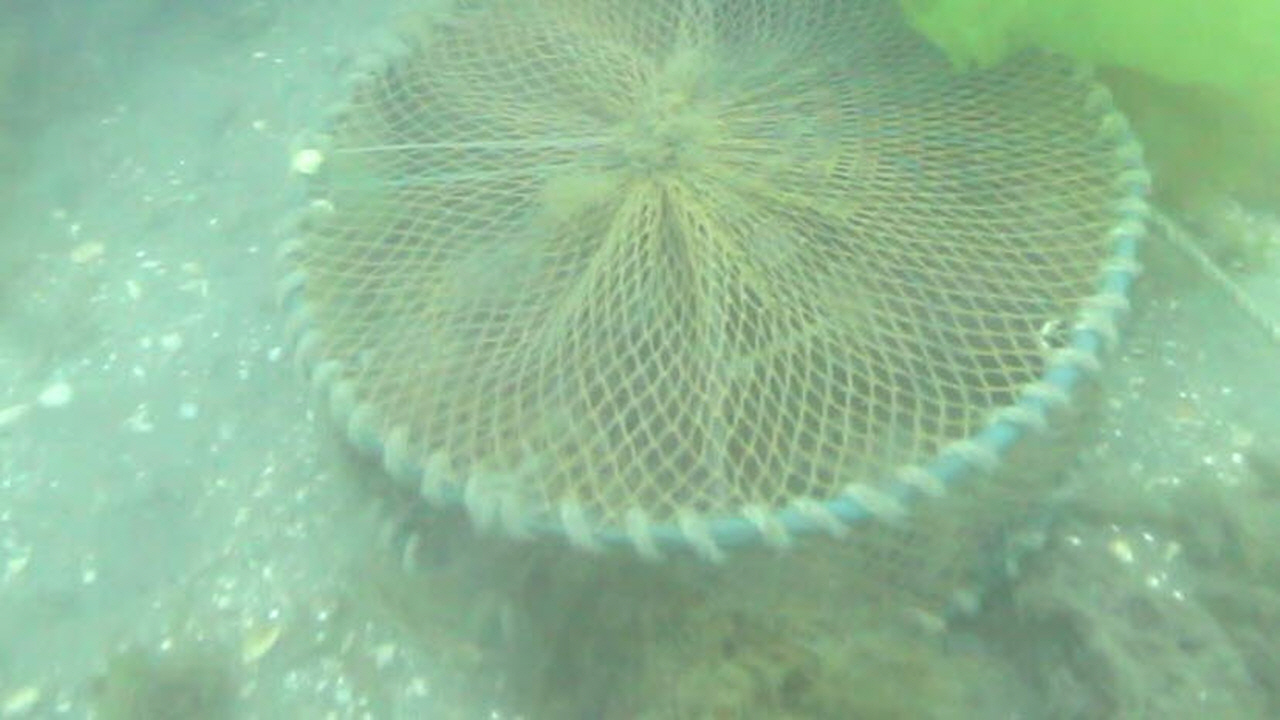circular fish trap: (275, 3, 1154, 658)
rope: (1147, 204, 1280, 351)
